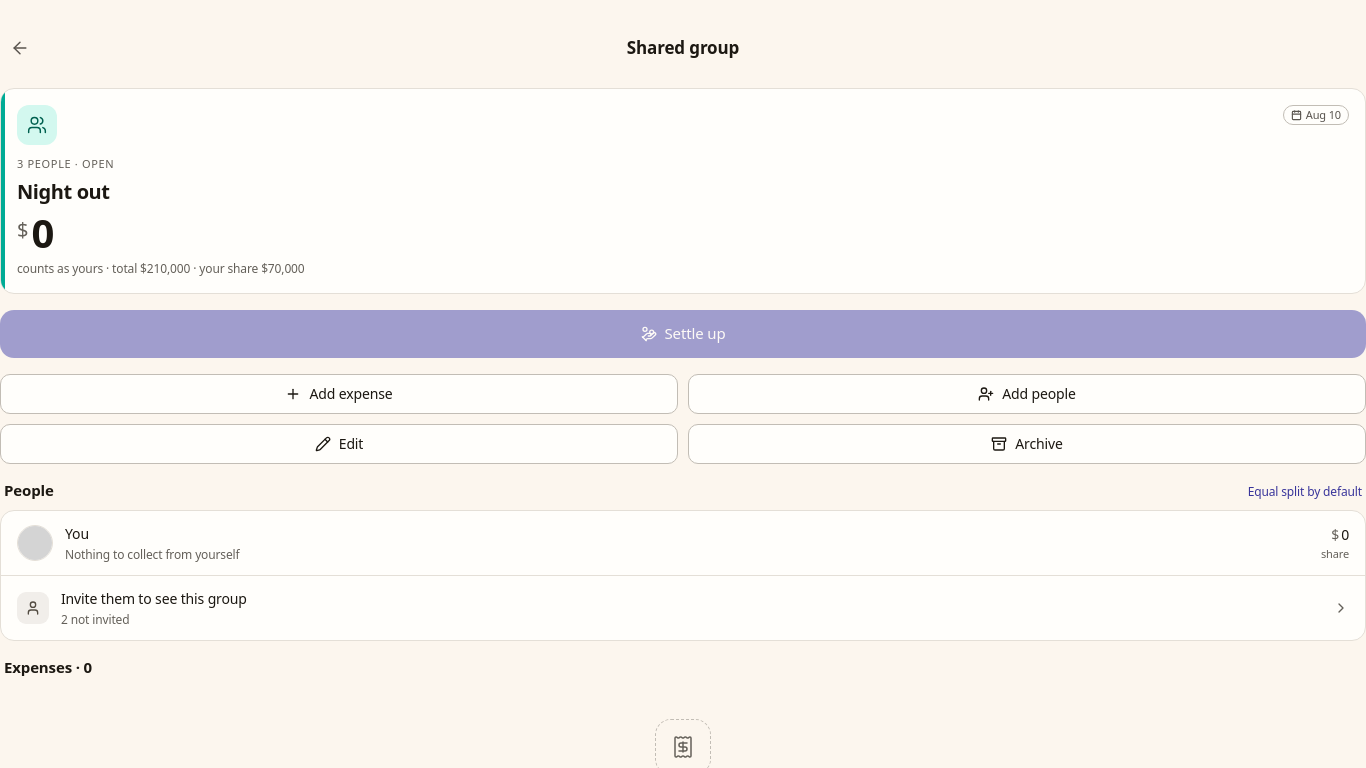
Scenario: SharedGroupScreen › does not offer it while the people in the group have no name yet
The width and height of the screenshot is (1366, 768).
What coordinates should you click on to do the following:
click the 2nd button named "Add expense"
I would click on:
 (339, 394)
Its box is [0, 374, 678, 414].
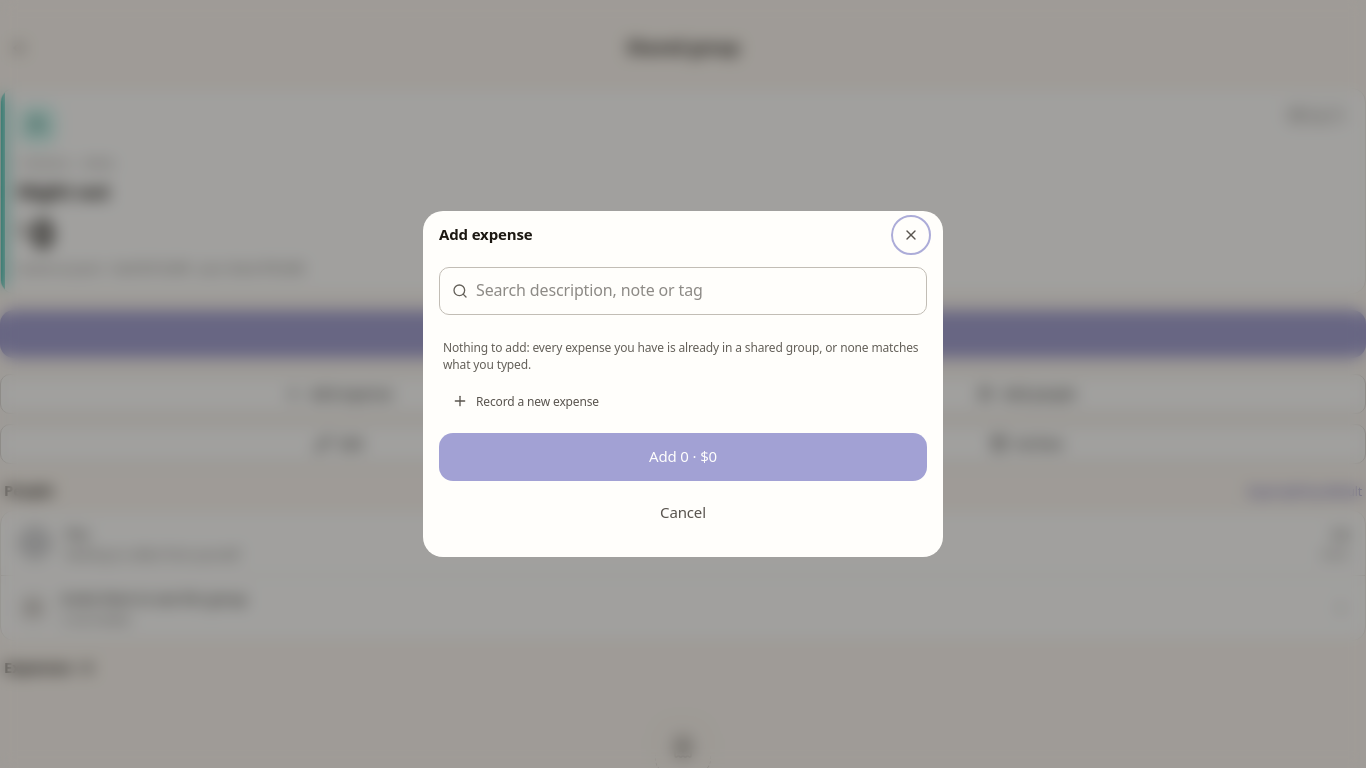
Check: the 2nd button named "Record a new expense" is shown, box [439, 385, 612, 417]
